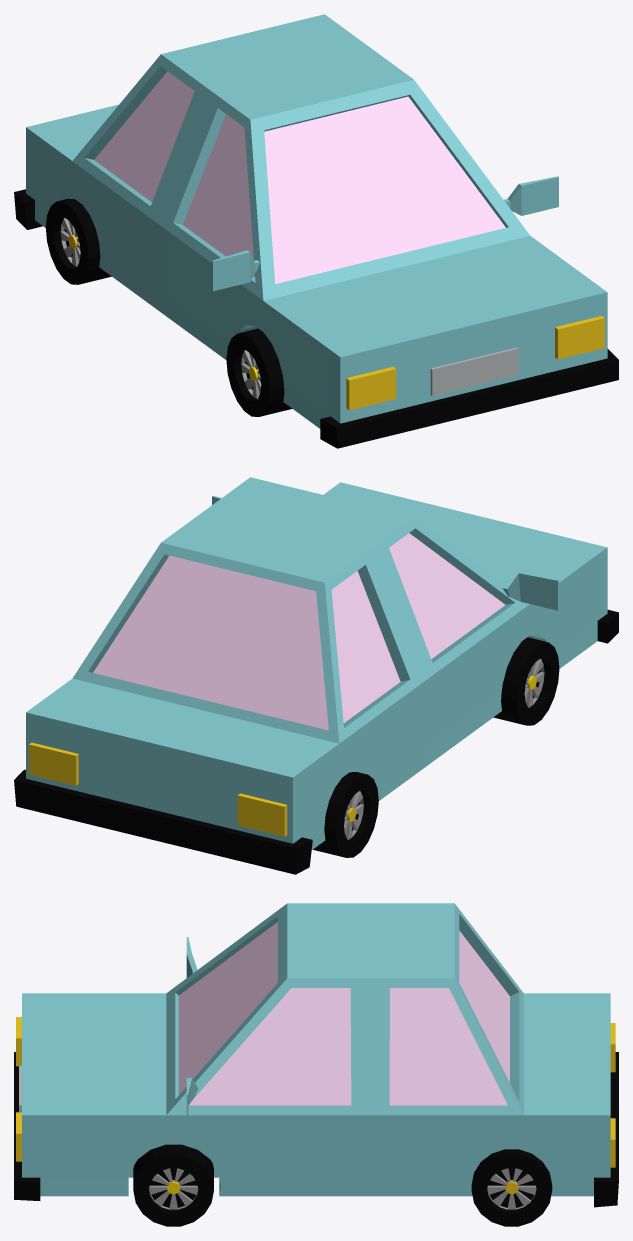
The model's file is Lancer_champ_I.glb.
3 renders of one model, top to bottom at view 1: azimuth 30°, elevation 25°; view 2: azimuth 150°, elevation 25°; view 3: azimuth 270°, elevation 25°, orthographic. The views are drawn at different scales.
Parts seen in each view (by area): view 1: Cube; view 2: Cube; view 3: Cube.
Part boxes in pixels (bbox=[...]): Cube: bbox=[14, 14, 618, 448]; Cube: bbox=[14, 477, 618, 874]; Cube: bbox=[14, 903, 618, 1226].
Size of the model in its own units: 2.59 by 1.68 by 4.19.
